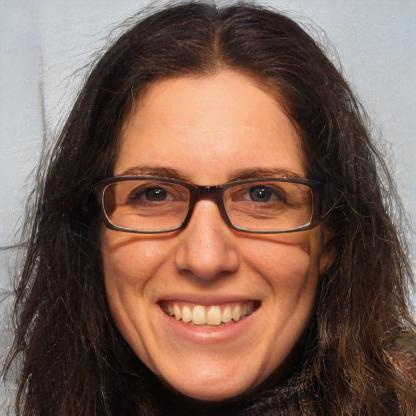glasses: (96, 171, 324, 241)
